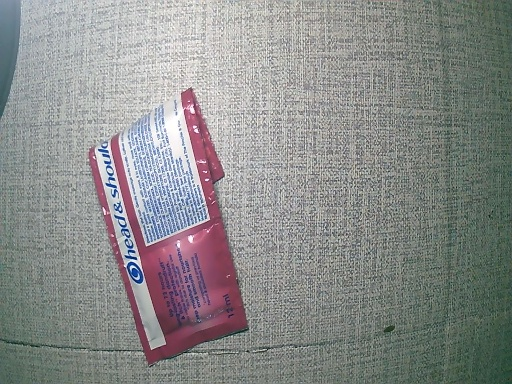plastic: (89, 85, 246, 367)
